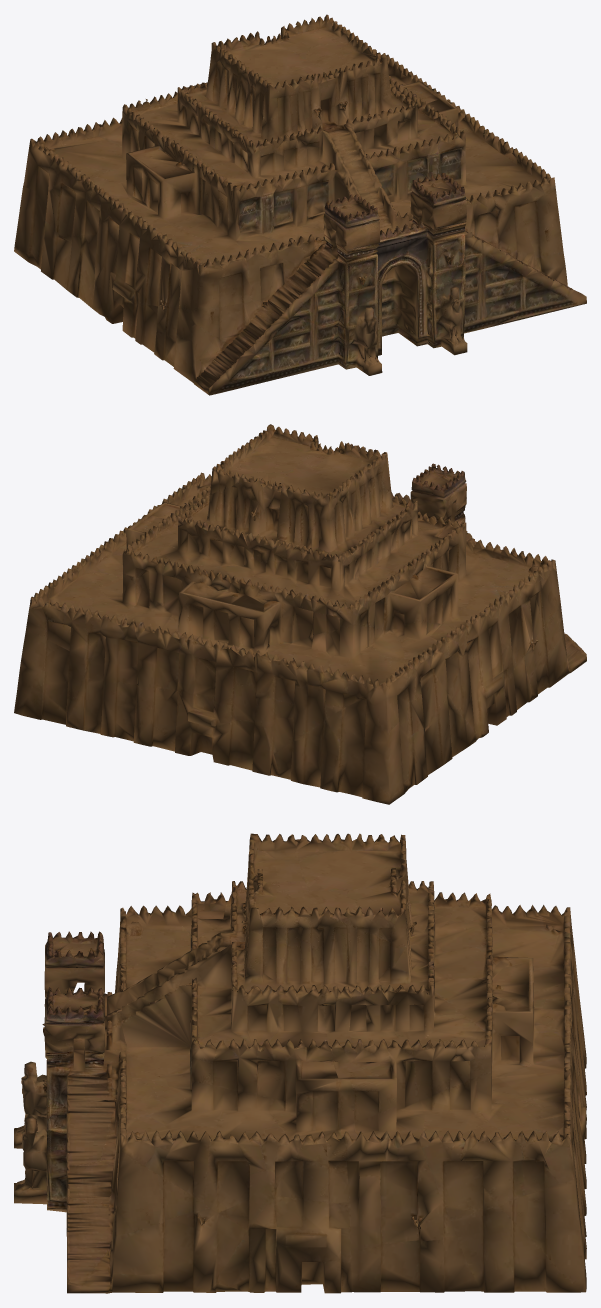
File: babylon_gate.glb
3 views of the same model, one above another, from view 1: azimuth 30°, elevation 25°; view 2: azimuth 150°, elevation 25°; view 3: azimuth 270°, elevation 25° (orthographic). The views are drawn at different scales.
Parts seen in each view (by area): view 1: Mesh_0; view 2: Mesh_0; view 3: Mesh_0.
Boxes of the visible parts, bbox=[...] form: Mesh_0: bbox=[14, 14, 586, 395]; Mesh_0: bbox=[14, 424, 586, 804]; Mesh_0: bbox=[14, 833, 586, 1293].
Size of the model in its own units: 1.9 by 1.1 by 1.89.
1 material, 1 textured.
